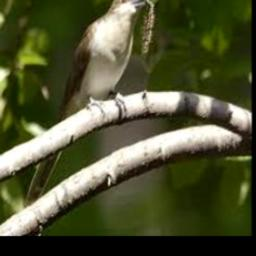Cuckoo: (26, 0, 150, 208)
